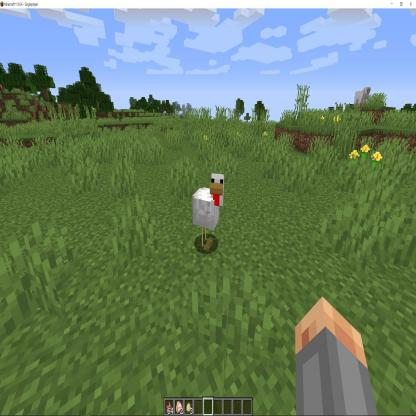minecraft-pigs: (186, 168, 229, 256)
